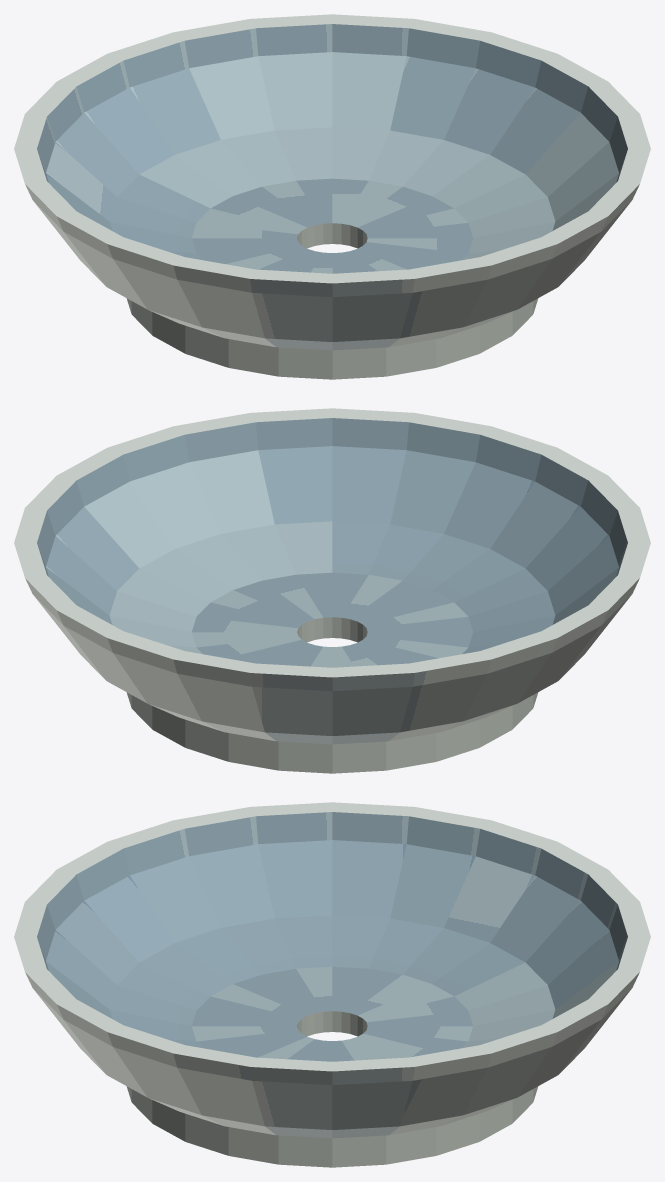
The model's file is antique-nabeshima-dish.glb.
3 views of the same model, one above another, from view 1: azimuth 30°, elevation 25°; view 2: azimuth 150°, elevation 25°; view 3: azimuth 270°, elevation 25° (orthographic).
Visible parts, largest first — view 1: antique-nabeshima-dish/ceramic-inner-wall-6, antique-nabeshima-dish/ceramic-inner-lower-7, antique-nabeshima-dish/ceramic-outer-mid-2, antique-nabeshima-dish/ceramic-inner-floor-8, antique-nabeshima-dish/ceramic-rim-4, antique-nabeshima-dish/ceramic-inner-upper-5, antique-nabeshima-dish/ceramic-foot-outer-1, antique-nabeshima-dish/ceramic-outer-upper-3, antique-nabeshima-dish/ceramic-outer-lower-1, antique-nabeshima-dish/ceramic-drainage-wall-9; view 2: antique-nabeshima-dish/ceramic-inner-wall-6, antique-nabeshima-dish/ceramic-inner-lower-7, antique-nabeshima-dish/ceramic-outer-mid-2, antique-nabeshima-dish/ceramic-inner-floor-8, antique-nabeshima-dish/ceramic-rim-4, antique-nabeshima-dish/ceramic-inner-upper-5, antique-nabeshima-dish/ceramic-foot-outer-1, antique-nabeshima-dish/ceramic-outer-upper-3, antique-nabeshima-dish/ceramic-outer-lower-1, antique-nabeshima-dish/ceramic-drainage-wall-9; view 3: antique-nabeshima-dish/ceramic-inner-wall-6, antique-nabeshima-dish/ceramic-inner-lower-7, antique-nabeshima-dish/ceramic-outer-mid-2, antique-nabeshima-dish/ceramic-inner-floor-8, antique-nabeshima-dish/ceramic-rim-4, antique-nabeshima-dish/ceramic-inner-upper-5, antique-nabeshima-dish/ceramic-foot-outer-1, antique-nabeshima-dish/ceramic-outer-upper-3, antique-nabeshima-dish/ceramic-outer-lower-1, antique-nabeshima-dish/ceramic-drainage-wall-9.
Part boxes in pixels (x1,y1,x2,y2): antique-nabeshima-dish/ceramic-inner-wall-6: (46, 52, 618, 230); antique-nabeshima-dish/ceramic-inner-lower-7: (109, 127, 555, 260); antique-nabeshima-dish/ceramic-outer-mid-2: (33, 201, 631, 341); antique-nabeshima-dish/ceramic-inner-floor-8: (191, 178, 473, 273); antique-nabeshima-dish/ceramic-rim-4: (14, 14, 650, 283); antique-nabeshima-dish/ceramic-inner-upper-5: (37, 24, 627, 182); antique-nabeshima-dish/ceramic-foot-outer-1: (126, 298, 538, 379); antique-nabeshima-dish/ceramic-outer-upper-3: (25, 184, 639, 297); antique-nabeshima-dish/ceramic-outer-lower-1: (149, 310, 515, 350); antique-nabeshima-dish/ceramic-drainage-wall-9: (297, 223, 367, 248); antique-nabeshima-dish/ceramic-inner-wall-6: (46, 446, 618, 624); antique-nabeshima-dish/ceramic-inner-lower-7: (109, 521, 555, 654); antique-nabeshima-dish/ceramic-outer-mid-2: (33, 595, 631, 735); antique-nabeshima-dish/ceramic-inner-floor-8: (191, 572, 473, 667); antique-nabeshima-dish/ceramic-rim-4: (14, 408, 650, 677); antique-nabeshima-dish/ceramic-inner-upper-5: (37, 418, 627, 576); antique-nabeshima-dish/ceramic-foot-outer-1: (126, 692, 538, 773); antique-nabeshima-dish/ceramic-outer-upper-3: (25, 578, 639, 691); antique-nabeshima-dish/ceramic-outer-lower-1: (149, 704, 515, 744); antique-nabeshima-dish/ceramic-drainage-wall-9: (297, 617, 367, 642); antique-nabeshima-dish/ceramic-inner-wall-6: (46, 840, 618, 1018); antique-nabeshima-dish/ceramic-inner-lower-7: (109, 915, 555, 1048); antique-nabeshima-dish/ceramic-outer-mid-2: (33, 989, 631, 1129); antique-nabeshima-dish/ceramic-inner-floor-8: (191, 966, 473, 1061); antique-nabeshima-dish/ceramic-rim-4: (14, 802, 650, 1071); antique-nabeshima-dish/ceramic-inner-upper-5: (37, 812, 627, 970); antique-nabeshima-dish/ceramic-foot-outer-1: (126, 1086, 538, 1167); antique-nabeshima-dish/ceramic-outer-upper-3: (25, 972, 639, 1085); antique-nabeshima-dish/ceramic-outer-lower-1: (149, 1098, 515, 1138); antique-nabeshima-dish/ceramic-drainage-wall-9: (297, 1011, 367, 1036).
Size of the model in its own units: 0.5625 by 0.1393 by 0.5625.
Materials: 4 (4 with a texture image).
